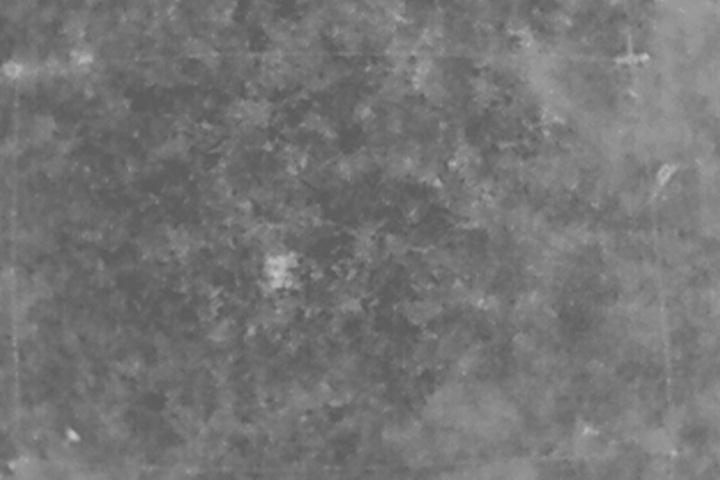landmine: (262, 252, 298, 294)
